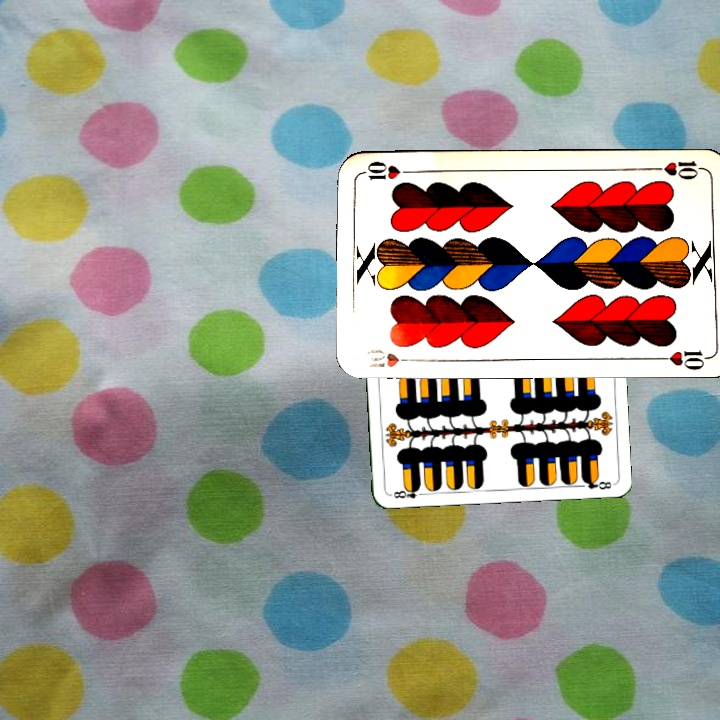E8: (390, 483, 427, 501)
H10: (650, 157, 709, 183), (363, 345, 420, 370)
